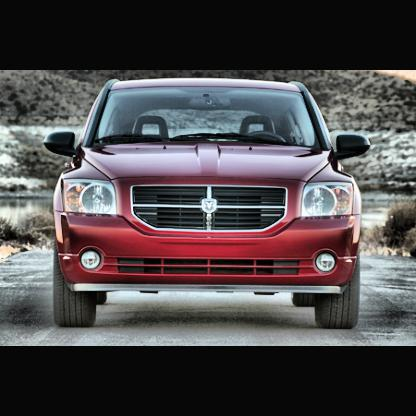Dodge Caliber Wagon 2007: (46, 79, 373, 332)
